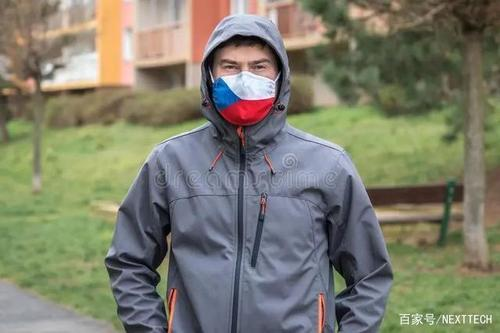mask: (206, 37, 288, 128)
